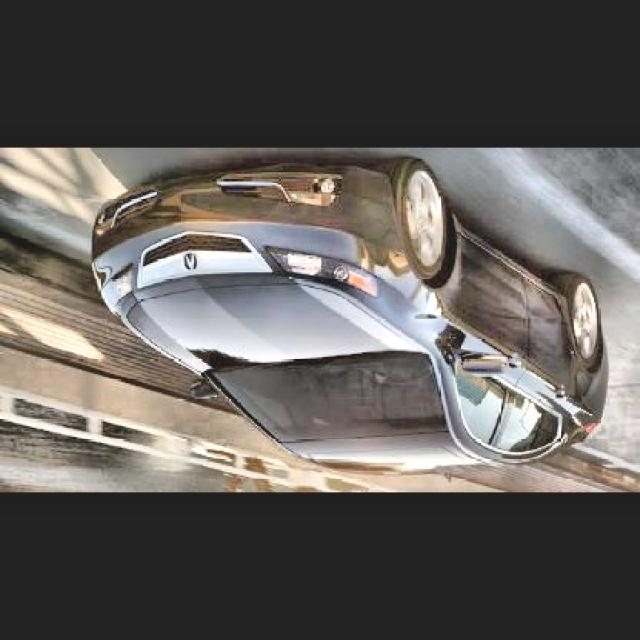black: (88, 182, 612, 470)
